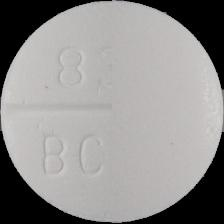0832-1025: (0, 0, 224, 224)
